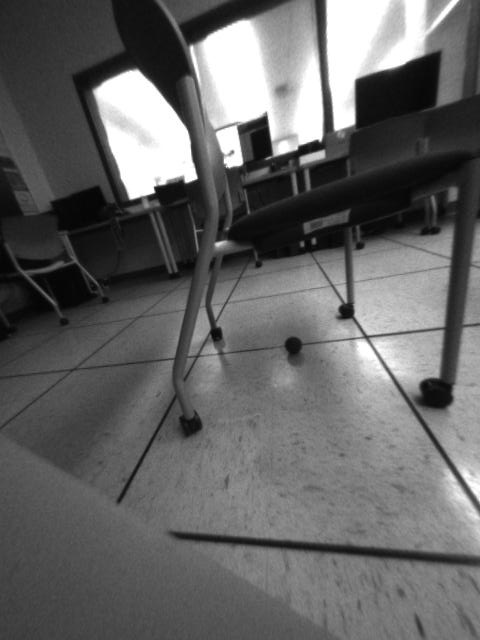dogtoy: (279, 333, 311, 363)
